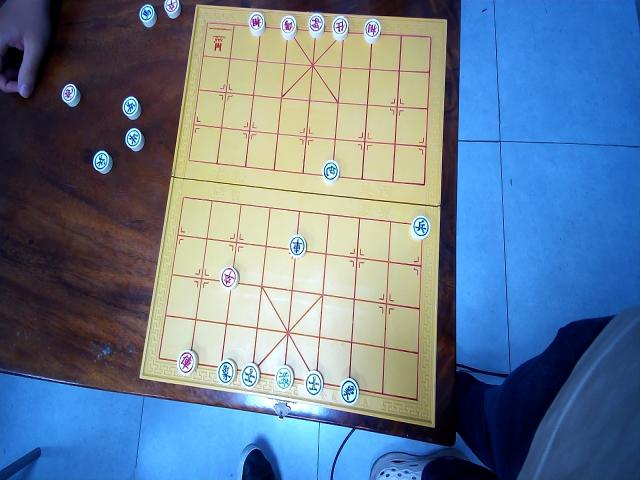piece: (240, 361, 260, 388), (216, 358, 236, 385), (274, 364, 294, 391), (177, 349, 197, 375), (410, 214, 430, 240), (339, 377, 358, 404), (61, 82, 81, 107), (92, 149, 112, 174), (122, 94, 141, 120), (125, 128, 145, 152), (219, 265, 238, 290), (362, 16, 380, 42), (304, 370, 322, 396), (288, 233, 306, 258), (322, 159, 340, 184), (138, 3, 156, 28), (248, 10, 264, 36), (280, 14, 296, 39), (308, 12, 324, 37), (332, 15, 348, 40), (163, 0, 180, 19)
